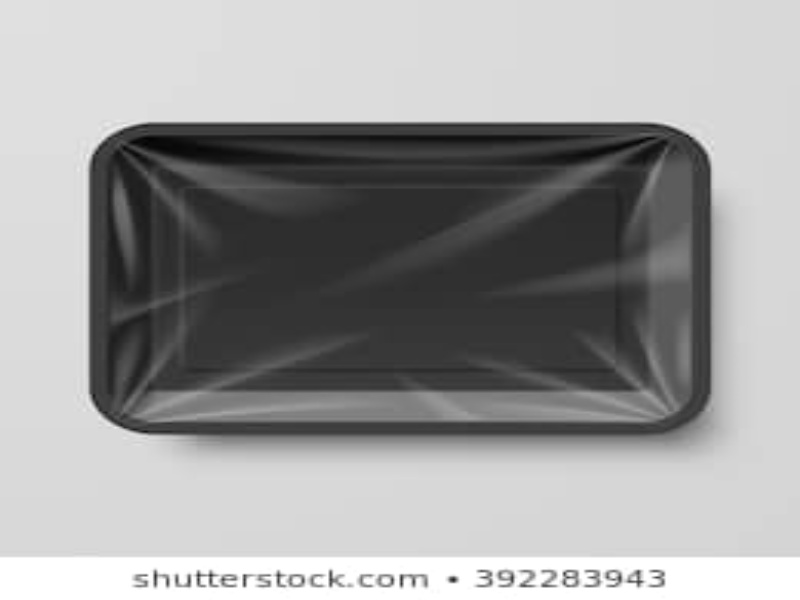plastic-tray: (82, 119, 724, 441)
